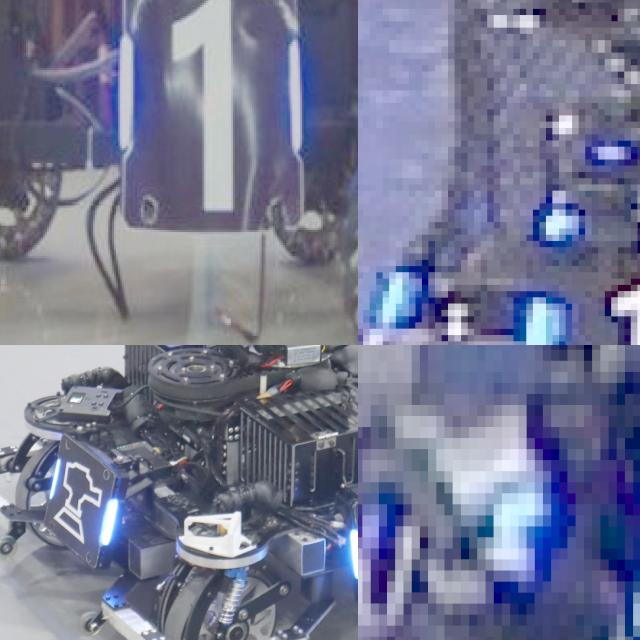B1: (358, 471, 436, 640), (519, 278, 640, 345)
Bs: (44, 436, 124, 567)
